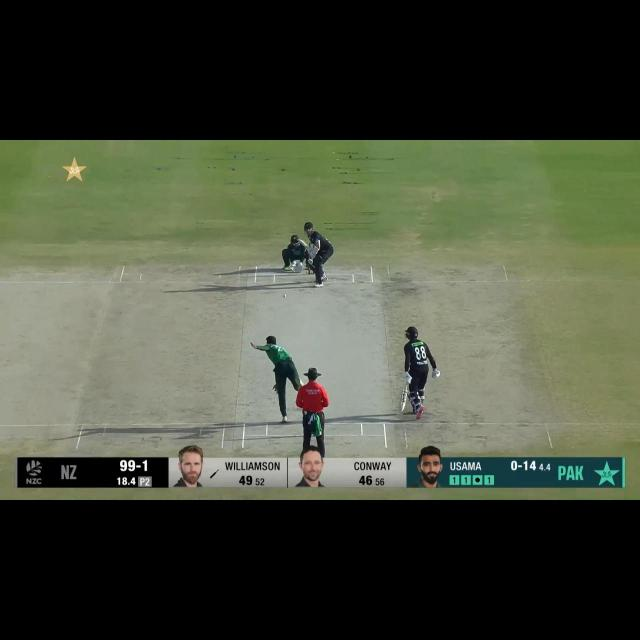bat: (398, 391, 408, 412), (298, 238, 310, 251)
toe: (400, 405, 406, 412), (298, 239, 304, 244)
